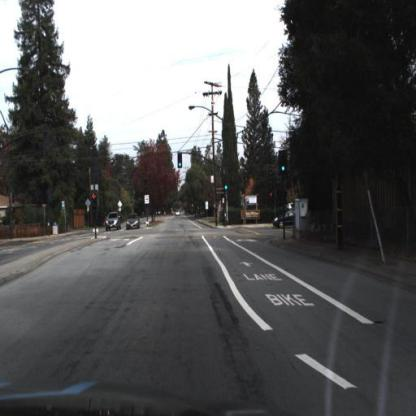car: (272, 204, 301, 233), (272, 208, 299, 233), (104, 206, 122, 233), (106, 210, 123, 235), (125, 212, 143, 233), (126, 212, 142, 228)
trafficLight-Green: (223, 170, 231, 196), (280, 148, 287, 177), (177, 149, 185, 172), (177, 152, 185, 175), (223, 173, 229, 192)
trafficLight-RedLeft: (90, 189, 100, 214)
